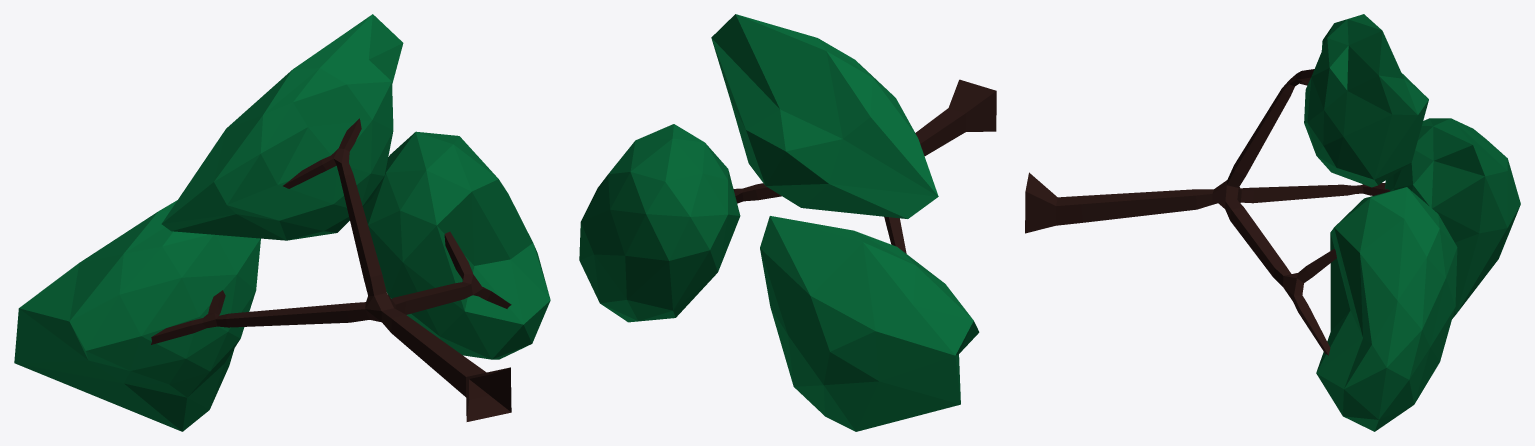
The model's file is tree13.fbx.
3 views of the same model, side by side, from view 1: azimuth 30°, elevation 25°; view 2: azimuth 150°, elevation 25°; view 3: azimuth 270°, elevation 25° (orthographic). The views are drawn at different scales.
Visible parts, largest first — view 1: tree1; view 2: tree1; view 3: tree1.
Part boxes in pixels (x1,y1,x2,y2): tree1: (14, 14, 550, 431); tree1: (579, 14, 996, 431); tree1: (1025, 14, 1520, 431).
Bounding box in the file's own units: 934 × 758 × 918.
